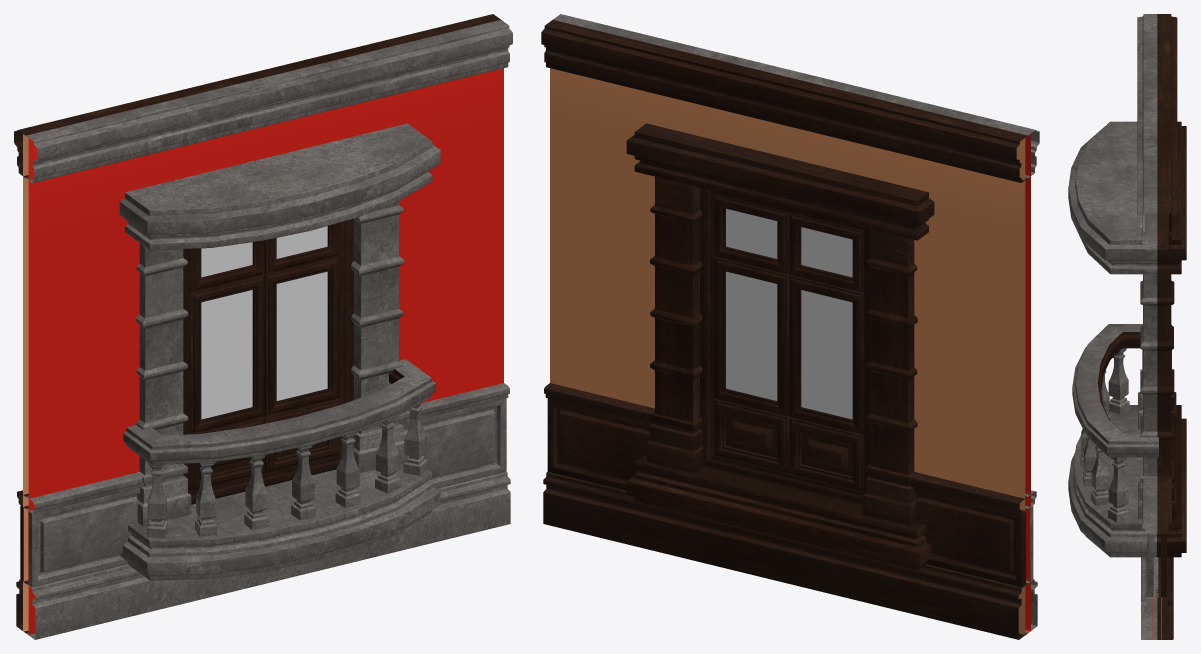
The model's file is SK7 WINDOW 1 BALCONY.fbx.
3 views of the same model, side by side, from view 1: azimuth 30°, elevation 25°; view 2: azimuth 150°, elevation 25°; view 3: azimuth 270°, elevation 25° (orthographic). The views are drawn at different scales.
Visible parts, largest first — view 1: SK7 WINDOW 1 BALCONY; view 2: SK7 WINDOW 1 BALCONY; view 3: SK7 WINDOW 1 BALCONY.
Boxes of the visible parts, <box> form: SK7 WINDOW 1 BALCONY: <box>14,14,512,639</box>; SK7 WINDOW 1 BALCONY: <box>541,14,1039,639</box>; SK7 WINDOW 1 BALCONY: <box>1068,14,1186,639</box>.
Bounding box in the file's own units: 400 × 400 × 100.
